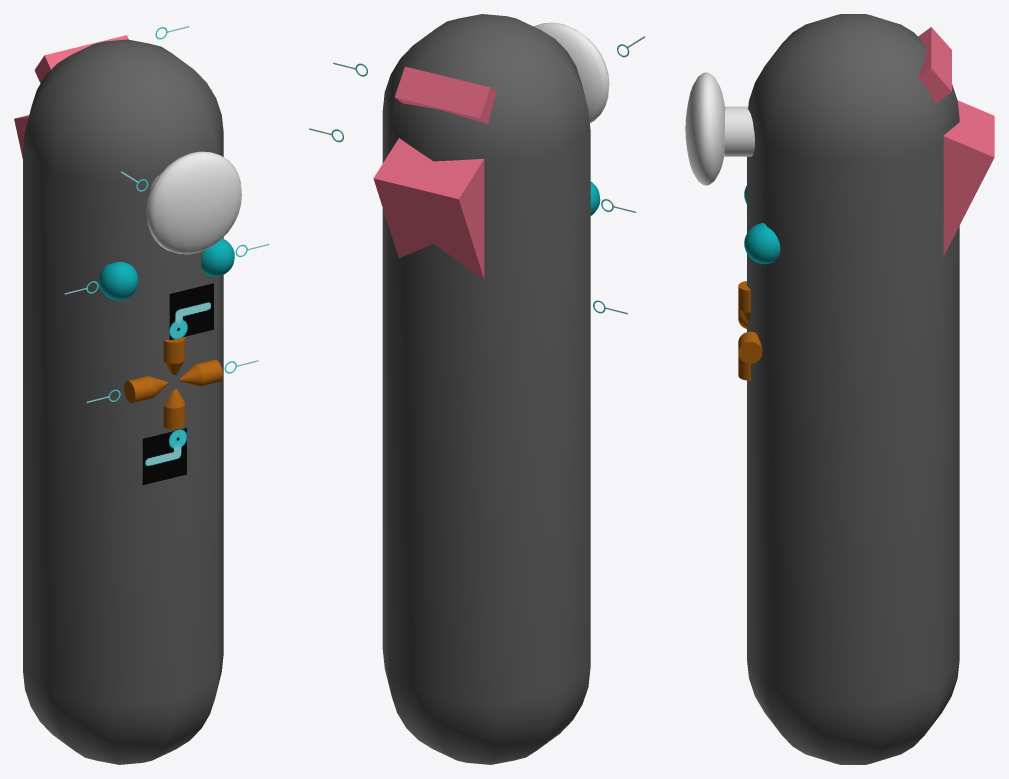
The model's file is wandlabeled.fbx.
3 views of the same model, side by side, from view 1: azimuth 30°, elevation 25°; view 2: azimuth 150°, elevation 25°; view 3: azimuth 270°, elevation 25° (orthographic). The views are drawn at different scales.
Visible parts, largest first — view 1: Capsule, Ball.2, Plane.4, Plane.5, Ball.1, Ball, Box.1, Cylinder.1.3, Cylinder.1.1, Cylinder.1.2, Cylinder.1; view 2: Capsule, Box, Box.1, Ball.2; view 3: Capsule, Box, Ball.2, Box.1, Cylinder, Ball, Cylinder.1.2.
Part boxes in pixels (left/top/right/bottom): Capsule: left=23, top=39, right=223, bottom=764; Ball.2: left=146, top=151, right=241, bottom=254; Plane.4: left=169, top=283, right=213, bottom=340; Plane.5: left=142, top=428, right=186, bottom=484; Ball.1: left=99, top=262, right=138, bottom=300; Ball: left=201, top=238, right=234, bottom=276; Box.1: left=34, top=35, right=128, bottom=83; Cylinder.1.3: left=124, top=376, right=155, bottom=403; Cylinder.1.1: left=163, top=337, right=185, bottom=363; Cylinder.1.2: left=195, top=359, right=222, bottom=386; Cylinder.1: left=163, top=405, right=185, bottom=429; Capsule: left=382, top=14, right=590, bottom=764; Box: left=373, top=138, right=484, bottom=278; Box.1: left=394, top=66, right=497, bottom=123; Ball.2: left=533, top=22, right=609, bottom=122; Capsule: left=747, top=14, right=959, bottom=764; Box: left=943, top=100, right=994, bottom=255; Ball.2: left=685, top=72, right=725, bottom=185; Box.1: left=917, top=27, right=951, bottom=103; Cylinder: left=724, top=106, right=754, bottom=156; Ball: left=744, top=223, right=780, bottom=264; Cylinder.1.2: left=738, top=331, right=762, bottom=363.
Size of the model in its own units: 0.0683 by 0.19 by 0.0727.
